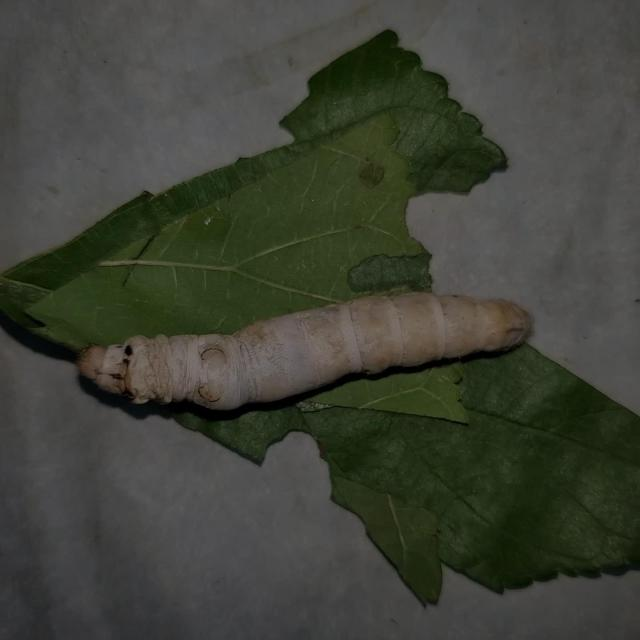Grasserie: (70, 278, 553, 426)
